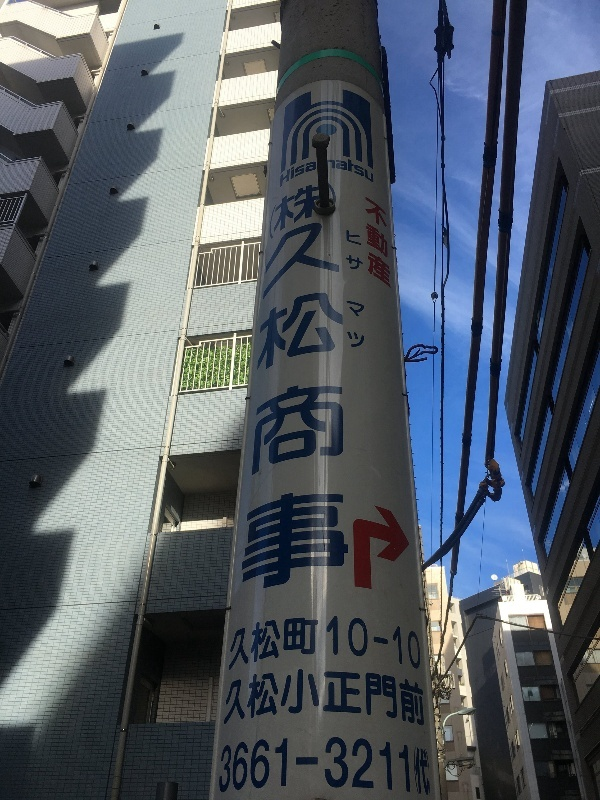text: (273, 178, 288, 598), (289, 178, 304, 598), (305, 178, 320, 598), (321, 178, 336, 598), (337, 178, 350, 598), (369, 197, 384, 290), (269, 178, 272, 598), (225, 732, 240, 797), (241, 732, 256, 797), (257, 732, 272, 797), (273, 732, 288, 797), (289, 732, 304, 797), (305, 732, 320, 797), (321, 732, 336, 797), (337, 732, 352, 797), (353, 732, 368, 797), (369, 732, 384, 797), (385, 732, 400, 797), (401, 732, 416, 797), (241, 667, 256, 727), (257, 667, 272, 727), (273, 667, 288, 727), (289, 667, 304, 727), (305, 667, 320, 727), (321, 667, 336, 727), (337, 667, 352, 727), (353, 667, 368, 727), (369, 667, 384, 727), (385, 667, 400, 727), (401, 667, 416, 727), (241, 614, 256, 672), (257, 614, 272, 672), (273, 614, 288, 672), (289, 614, 304, 672), (305, 614, 320, 672), (321, 614, 336, 672), (337, 614, 352, 672), (353, 614, 368, 672), (369, 614, 384, 672), (385, 614, 400, 672), (401, 614, 416, 672), (417, 732, 430, 797), (227, 667, 240, 727), (353, 300, 365, 352), (385, 197, 391, 290), (337, 151, 352, 184), (353, 151, 368, 184), (417, 667, 425, 727), (232, 614, 240, 672), (289, 160, 304, 188), (353, 231, 363, 272), (305, 160, 317, 188), (346, 300, 352, 352), (327, 151, 336, 184), (346, 231, 352, 272), (417, 614, 421, 672), (281, 160, 288, 188), (366, 197, 368, 290), (369, 151, 374, 184)
